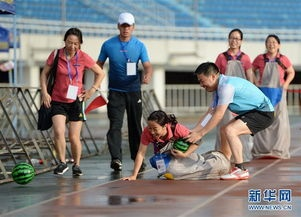falling: (122, 106, 237, 182)
